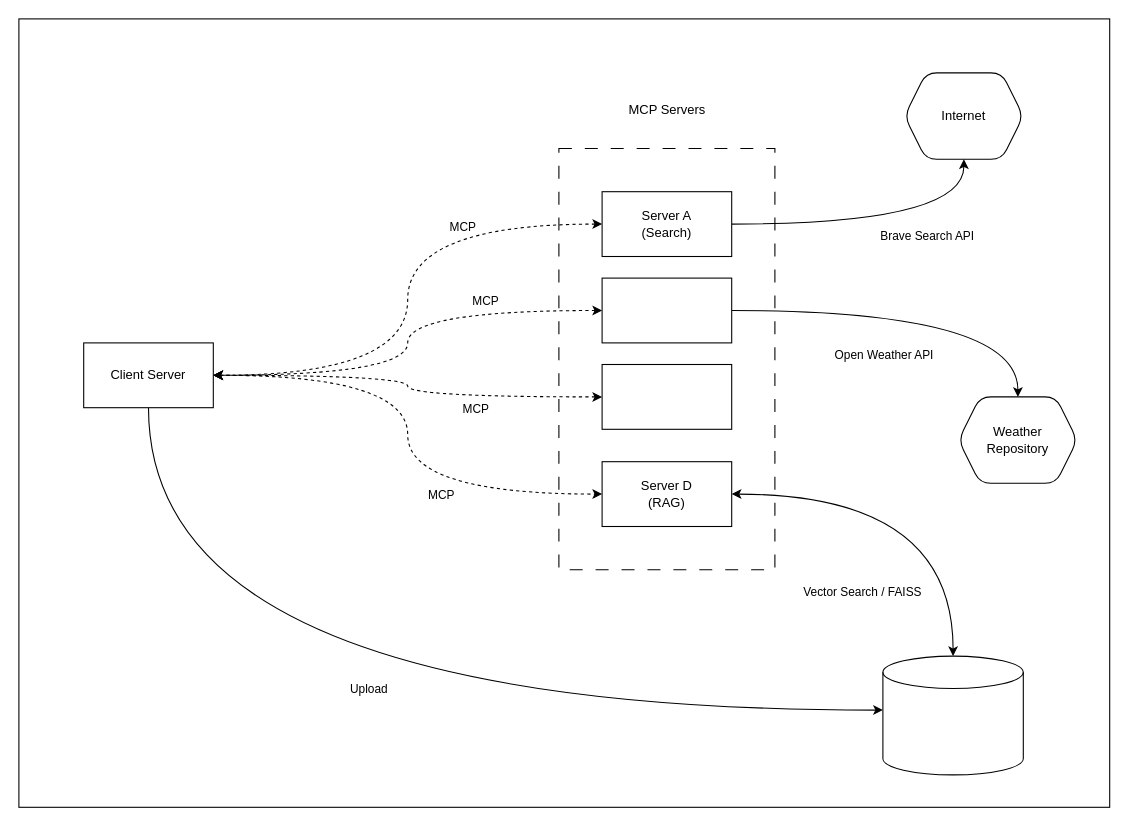
Image size: 1129x826. Some labels were removed from this diagram. Here are the shapes that lost their labels. From the top down, the centre of each, then its label:
At [666,310]: "Server B (Weather)".
At [666,396]: "Server C (Research)".
At [952,715]: "Local Database (Redis / MongoDB / PgVector)".
